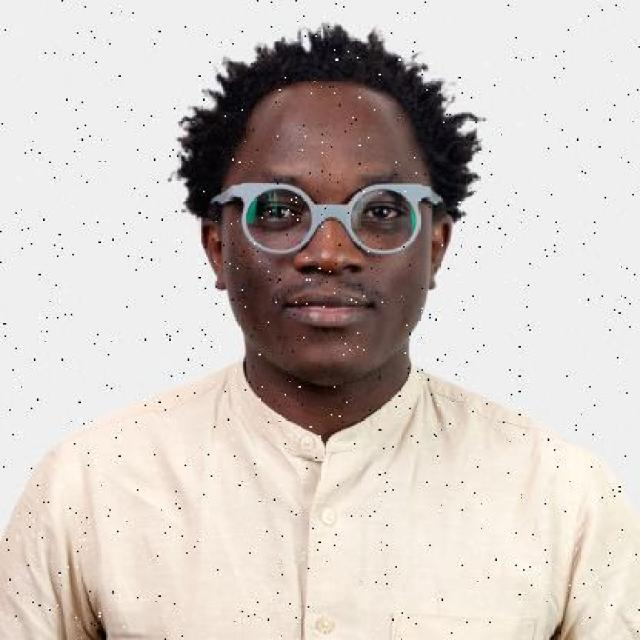glasses: (200, 179, 454, 255)
